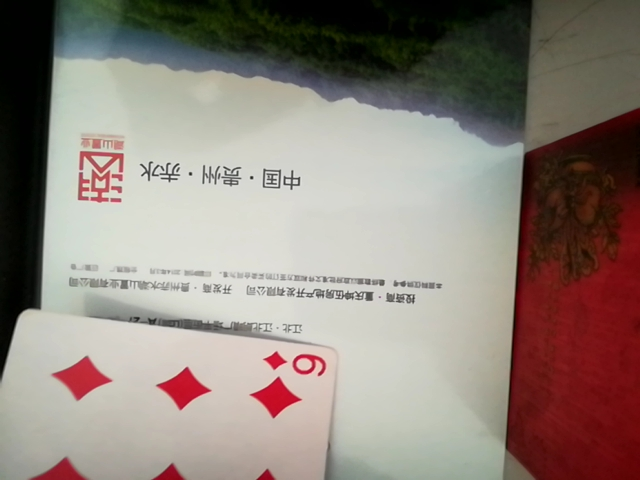fk 6: (0, 305, 339, 480)
